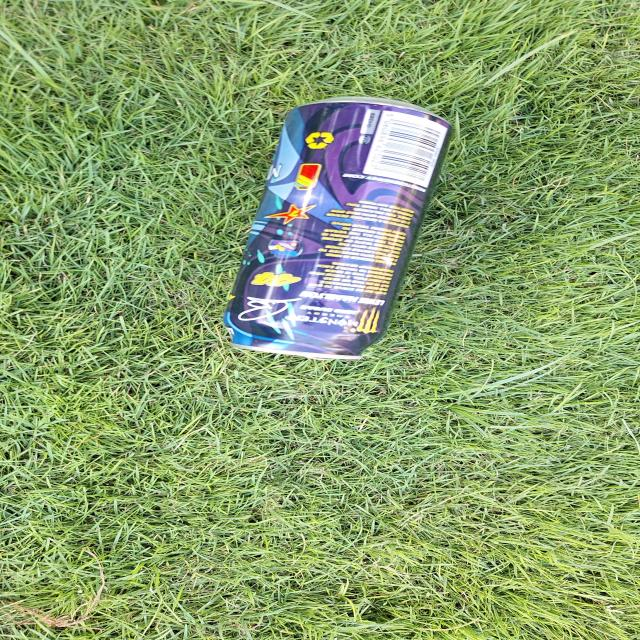Monster LH44: (213, 100, 460, 362)
